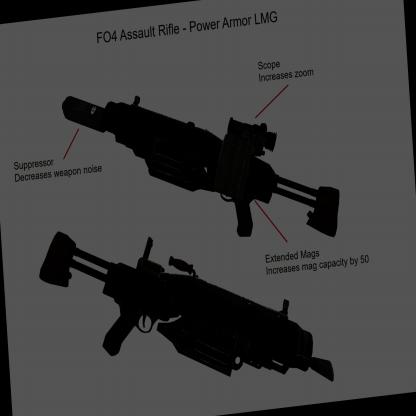rifle: (32, 226, 328, 416)
